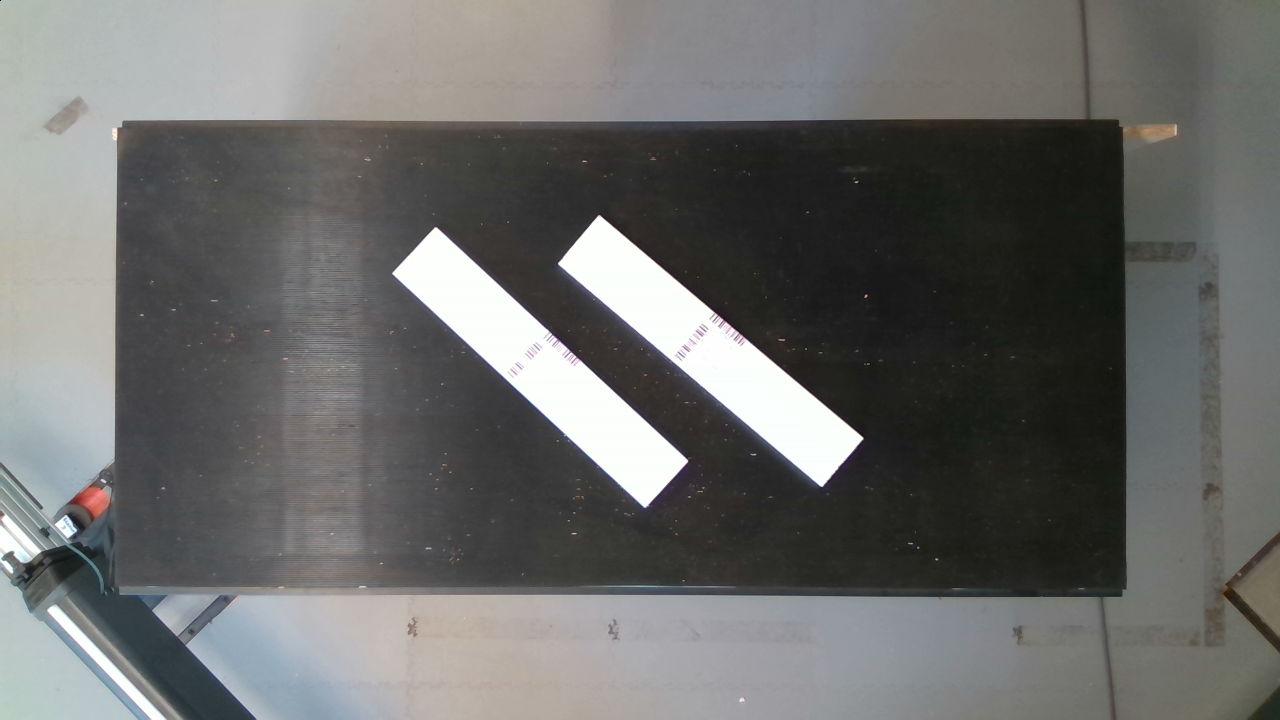barcode: (494, 317, 589, 412), (668, 294, 760, 391)
part1: (561, 211, 884, 498), (391, 223, 698, 511)
